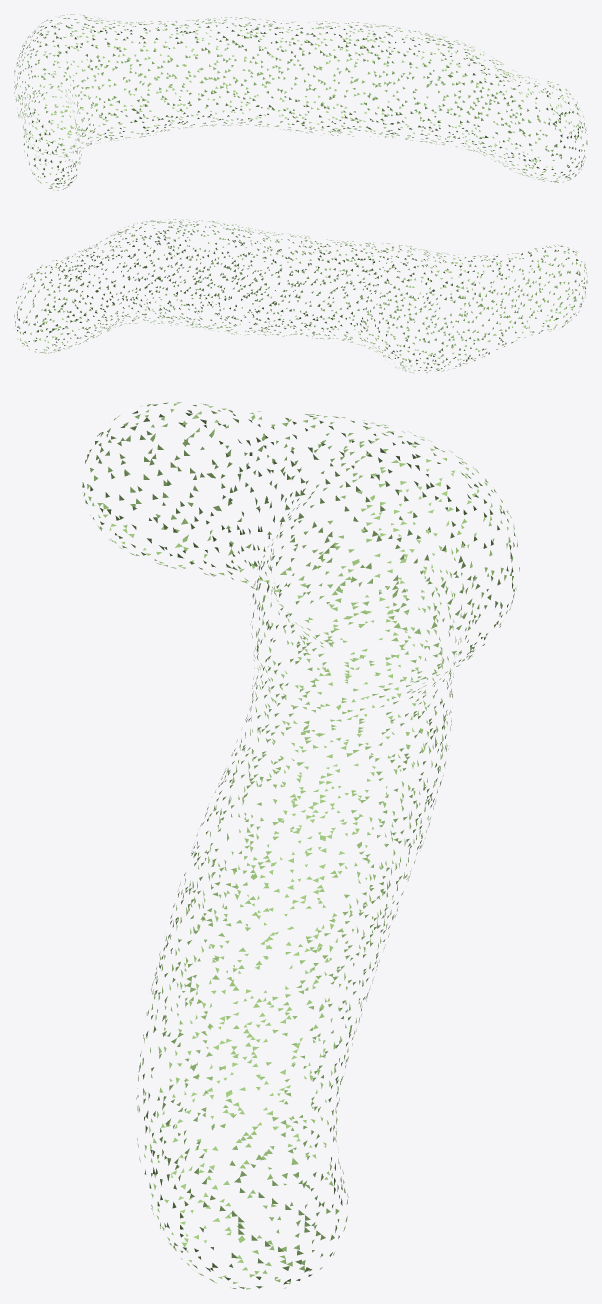
The model's file is morph_013.glb.
The picture shows the model from 3 angles, top to bottom: view 1: azimuth 30°, elevation 25°; view 2: azimuth 150°, elevation 25°; view 3: azimuth 270°, elevation 25°; orthographic projection. The views are drawn at different scales.
Bounding box in the file's own units: 134 × 53.69 × 48.66.
